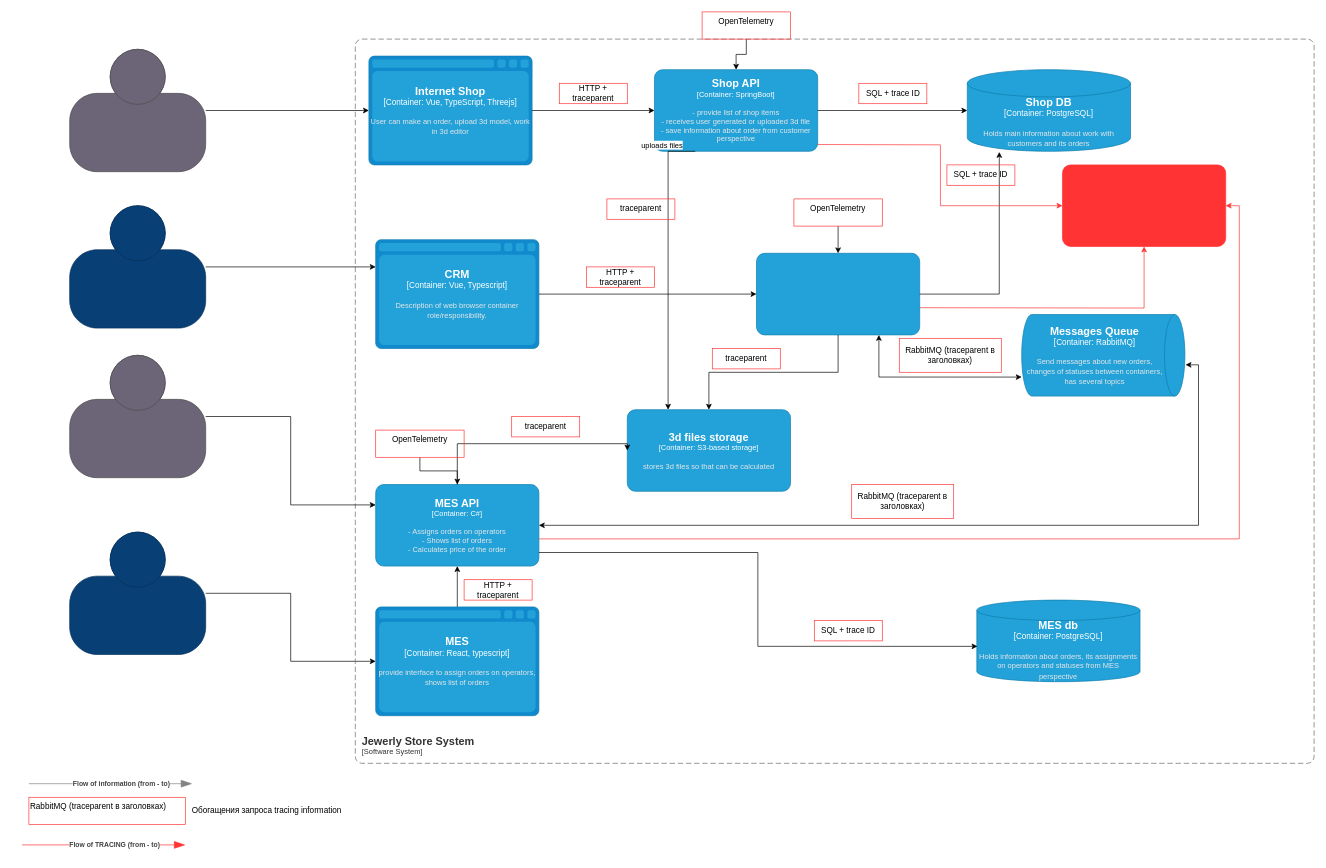
The diagram is 1326 pixels wide and 868 high, and some of its shapes have lost their labels. Each missing label, with the centre of its shape:
API user [Person] Description of external person.: (137,416)
CRM API [Container: SpringBoot] Description of container role/responsibility.: (838,294)
Customer [Person] Description of external person.: (137,110)
Operator [Person] Takes order in work, manufactures jewerly: (137,592)
Seller [Person] Operates with order, confirms manufacturing for the user: (137,266)
Tracing [Container: Jaeger] Собирает информацию tracing: (1144,205)
